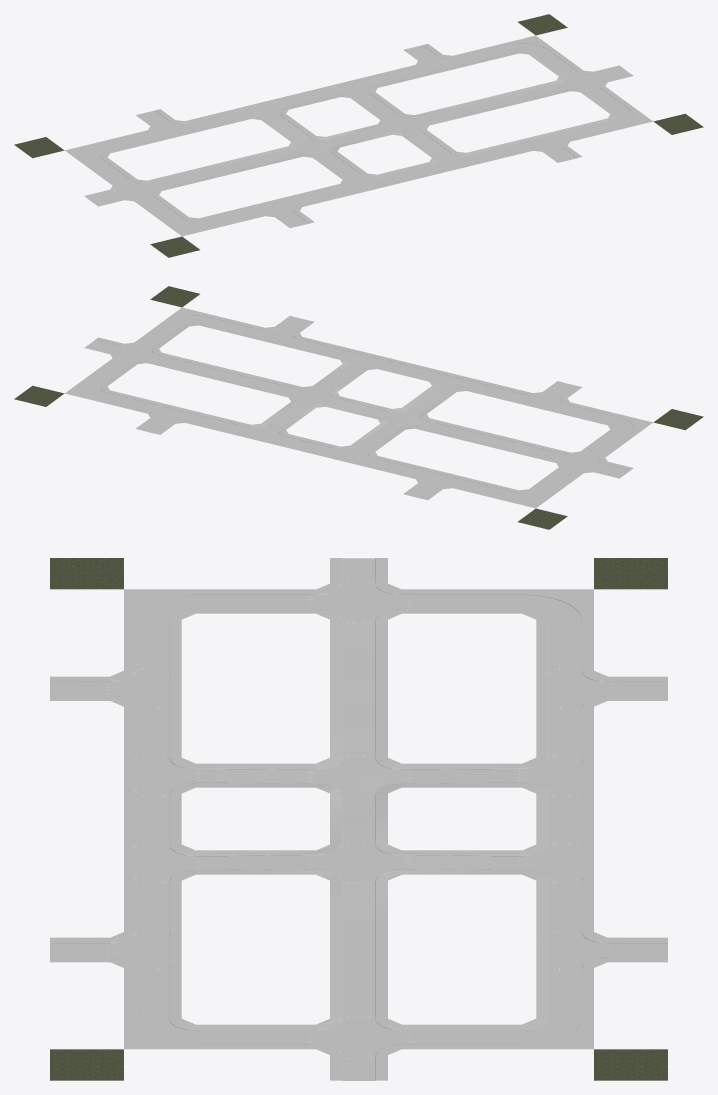
File: Double-Block-03-C.fbx
3 views of the same model, one above another, from view 1: azimuth 30°, elevation 25°; view 2: azimuth 150°, elevation 25°; view 3: azimuth 270°, elevation 25° (orthographic). The views are drawn at different scales.
Visible parts, largest first — view 1: Double-Block-03-B, Double-Block-03, Double-Block-03-Sidewalk, Double-Block-03-Sidewalk-B; view 2: Double-Block-03-B, Double-Block-03, Double-Block-03-Sidewalk, Double-Block-03-Sidewalk-B; view 3: Double-Block-03, Double-Block-03-B, Double-Block-03-Sidewalk-B, Double-Block-03-Sidewalk.
Part boxes in pixels (box(x1,y1,x2,y2)): Double-Block-03-B: box(303, 14, 703, 176); Double-Block-03: box(14, 95, 414, 257); Double-Block-03-Sidewalk: box(65, 93, 417, 236); Double-Block-03-Sidewalk-B: box(301, 35, 652, 178); Double-Block-03-B: box(14, 286, 414, 448); Double-Block-03: box(303, 367, 703, 529); Double-Block-03-Sidewalk: box(300, 365, 652, 508); Double-Block-03-Sidewalk-B: box(65, 307, 416, 450); Double-Block-03: box(50, 558, 667, 819); Double-Block-03-B: box(50, 819, 667, 1080); Double-Block-03-Sidewalk-B: box(50, 819, 667, 1080); Double-Block-03-Sidewalk: box(50, 558, 667, 819).
Size of what is drawn, in the model's own units: 600 by 0.8592 by 300.
